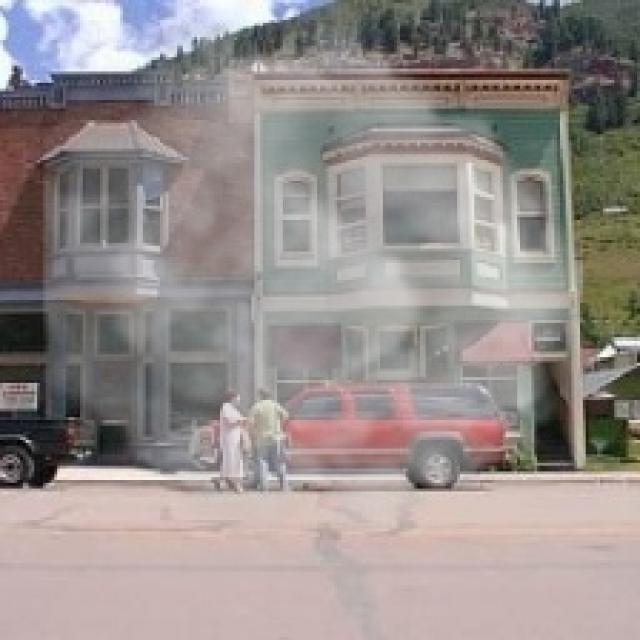smoke: (43, 0, 584, 552)
